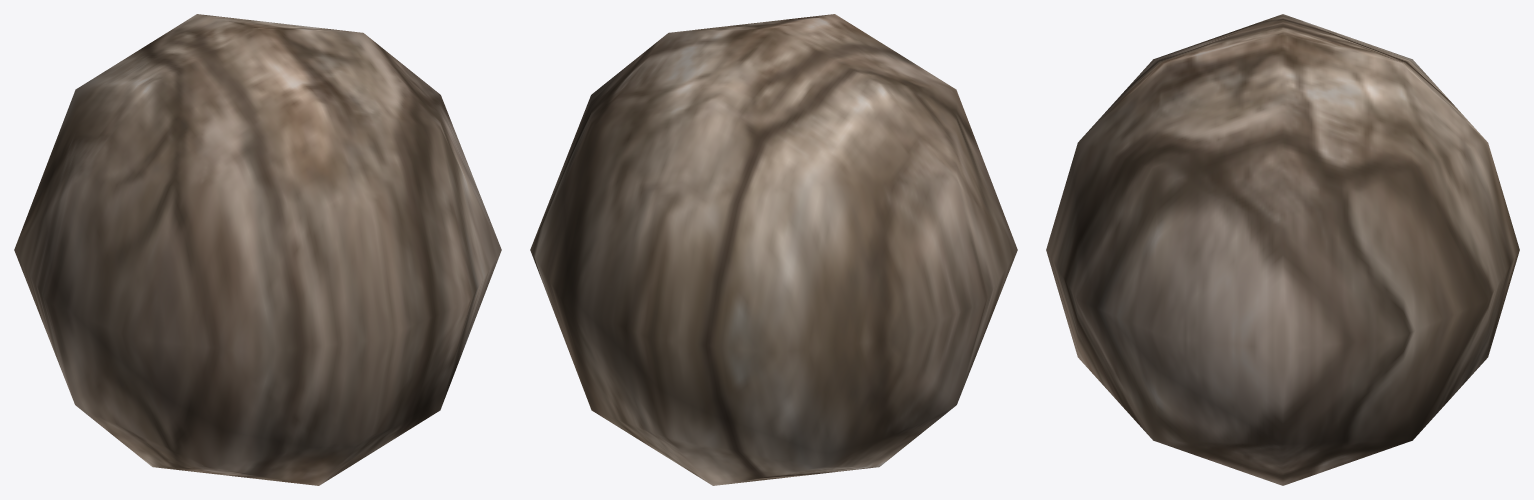
The model's file is BOULDER_01.fbx.
3 views of the same model, side by side, from view 1: azimuth 30°, elevation 25°; view 2: azimuth 150°, elevation 25°; view 3: azimuth 270°, elevation 25° (orthographic). The views are drawn at different scales.
Visible parts, largest first — view 1: BOULDER_01; view 2: BOULDER_01; view 3: BOULDER_01.
Part boxes in pixels (<box>): BOULDER_01: <box>14,14,501,485</box>; BOULDER_01: <box>530,14,1017,485</box>; BOULDER_01: <box>1046,14,1519,485</box>.
Size of the model in its own units: 13377 by 13377 by 13377.
Materials: 1 (1 with a texture image).
